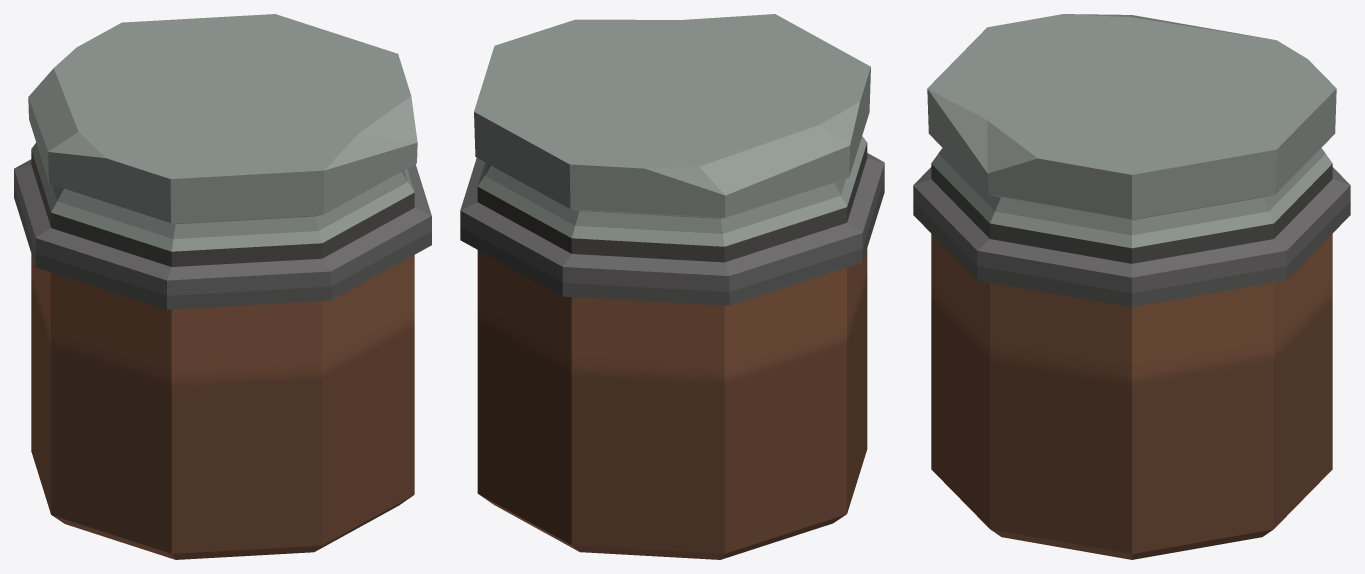
Rendered from SM_Prop_Organ_Jar_03.fbx.
3 views of the same model, side by side, from view 1: azimuth 30°, elevation 25°; view 2: azimuth 150°, elevation 25°; view 3: azimuth 270°, elevation 25° (orthographic).
Visible parts, largest first — view 1: SM_Prop_Organ_Jar_03; view 2: SM_Prop_Organ_Jar_03; view 3: SM_Prop_Organ_Jar_03.
Boxes of the visible parts, <box> form: SM_Prop_Organ_Jar_03: <box>14,14,431,559</box>; SM_Prop_Organ_Jar_03: <box>460,14,884,559</box>; SM_Prop_Organ_Jar_03: <box>913,14,1350,559</box>.
Size of the model in its own units: 42.07 by 41.73 by 42.07.
